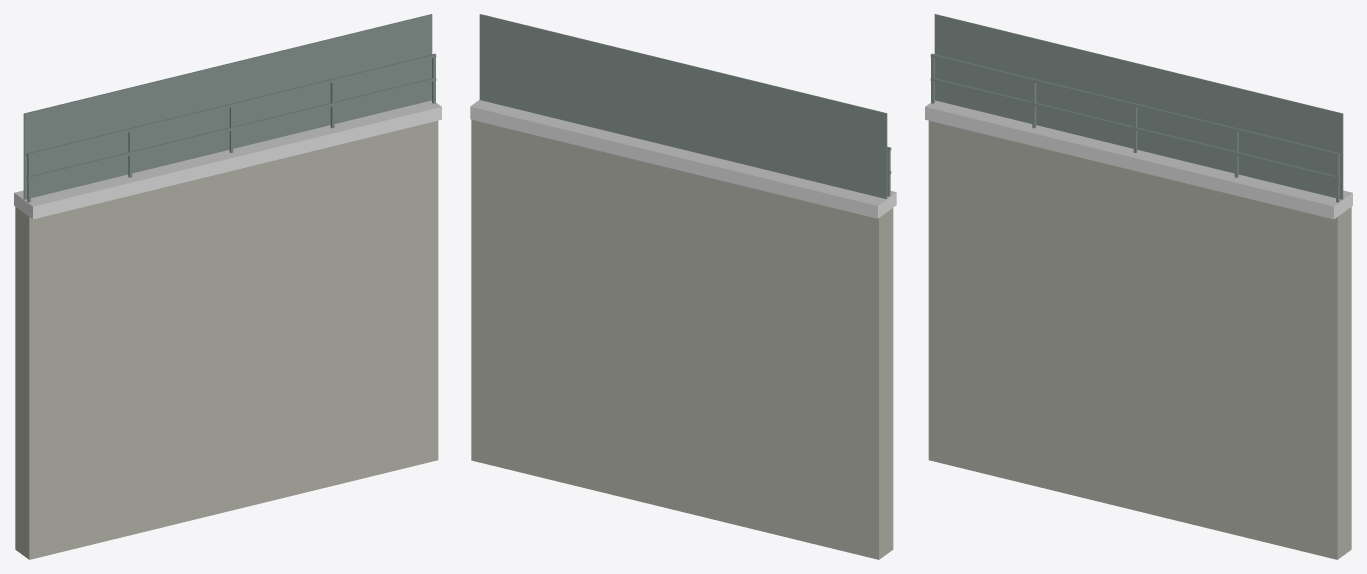
Rendered from SM_MuroTrinchera_Muro_v2_Malla_LOD0.fbx.
The picture shows the model from 3 angles, left to right: view 1: azimuth 30°, elevation 25°; view 2: azimuth 150°, elevation 25°; view 3: azimuth 330°, elevation 25°; orthographic projection.
Parts seen in each view (by area): view 1: SM_muro_trinchera_v2_LOD0; view 2: SM_muro_trinchera_v2_LOD0; view 3: SM_muro_trinchera_v2_LOD0.
Part boxes in pixels (x1,y1,x2,y2): SM_muro_trinchera_v2_LOD0: (14, 14, 441, 559); SM_muro_trinchera_v2_LOD0: (470, 14, 896, 559); SM_muro_trinchera_v2_LOD0: (925, 14, 1352, 559).
Size of the model in its own units: 9.98 by 10.3 by 0.8.
